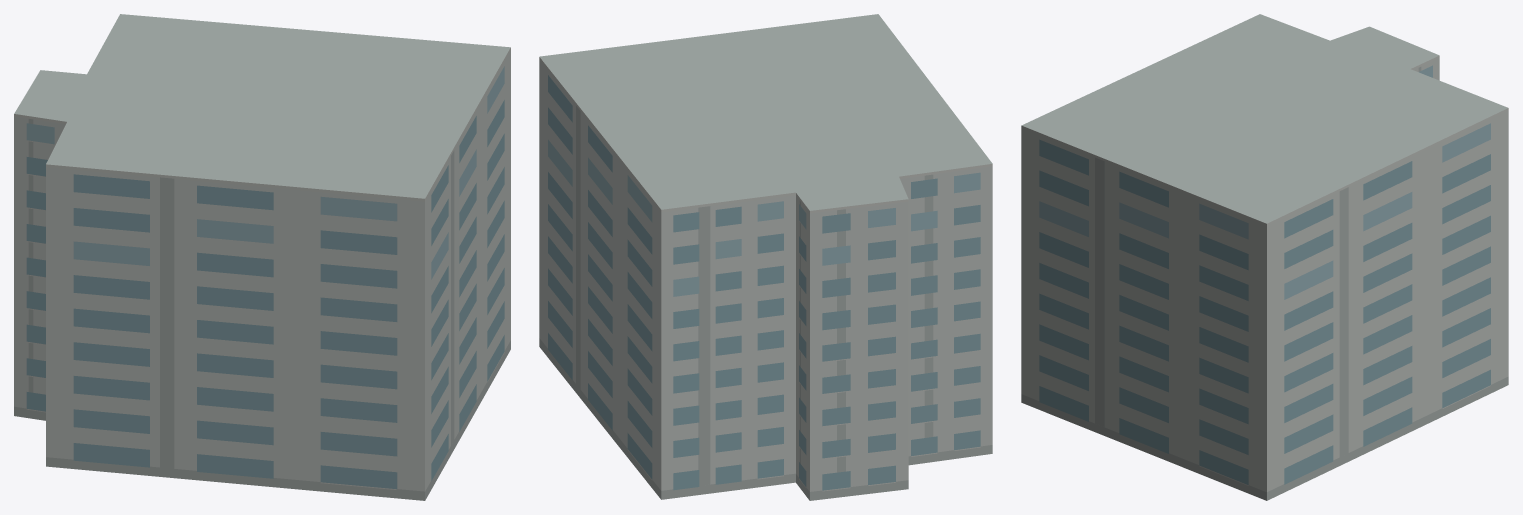
The model's file is residential-dd2e9e21-6426-4049-a7f1-63d9fc2fba76.glb.
The picture shows the model from 3 angles, left to right: view 1: azimuth 30°, elevation 25°; view 2: azimuth 150°, elevation 25°; view 3: azimuth 270°, elevation 25°; orthographic projection. The views are drawn at different scales.
Parts seen in each view (by area): view 1: residential-dd2e9e21-6426-4049-a7f1-63d9fc2fba76.tmp; view 2: residential-dd2e9e21-6426-4049-a7f1-63d9fc2fba76.tmp; view 3: residential-dd2e9e21-6426-4049-a7f1-63d9fc2fba76.tmp.
Part boxes in pixels (x1,y1,x2,y2): residential-dd2e9e21-6426-4049-a7f1-63d9fc2fba76.tmp: [14, 14, 510, 500]; residential-dd2e9e21-6426-4049-a7f1-63d9fc2fba76.tmp: [539, 14, 992, 500]; residential-dd2e9e21-6426-4049-a7f1-63d9fc2fba76.tmp: [1021, 14, 1508, 500].
Size of the model in its own units: 44.57 by 27.45 by 43.74.
